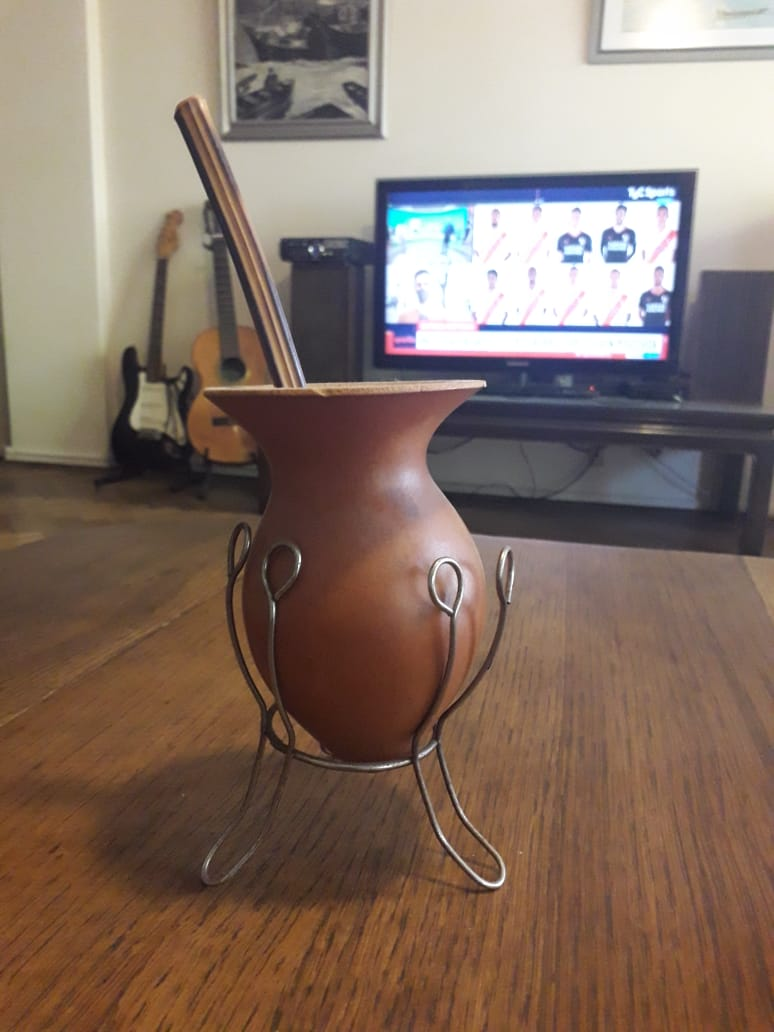calabaza: (169, 93, 517, 883)
mate: (171, 95, 519, 885)
